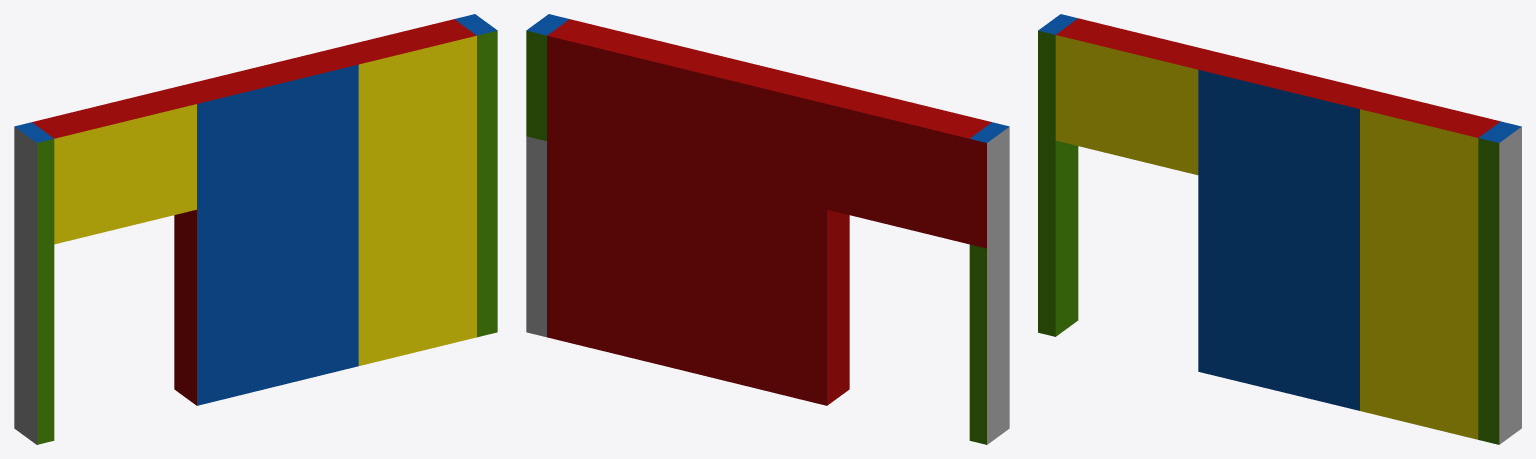
File: Door 2.fbx
3 renders of one model, left to right at view 1: azimuth 30°, elevation 25°; view 2: azimuth 150°, elevation 25°; view 3: azimuth 330°, elevation 25°, orthographic.
Visible parts, largest first — view 1: Door_L; view 2: Door_L; view 3: Door_L.
Boxes of the visible parts, x1,y1,x2,y2 form: Door_L: [14, 14, 497, 444]; Door_L: [526, 14, 1009, 444]; Door_L: [1038, 14, 1521, 444].
Bounding box in the file's own units: 58.11 × 36.37 × 4.95.
